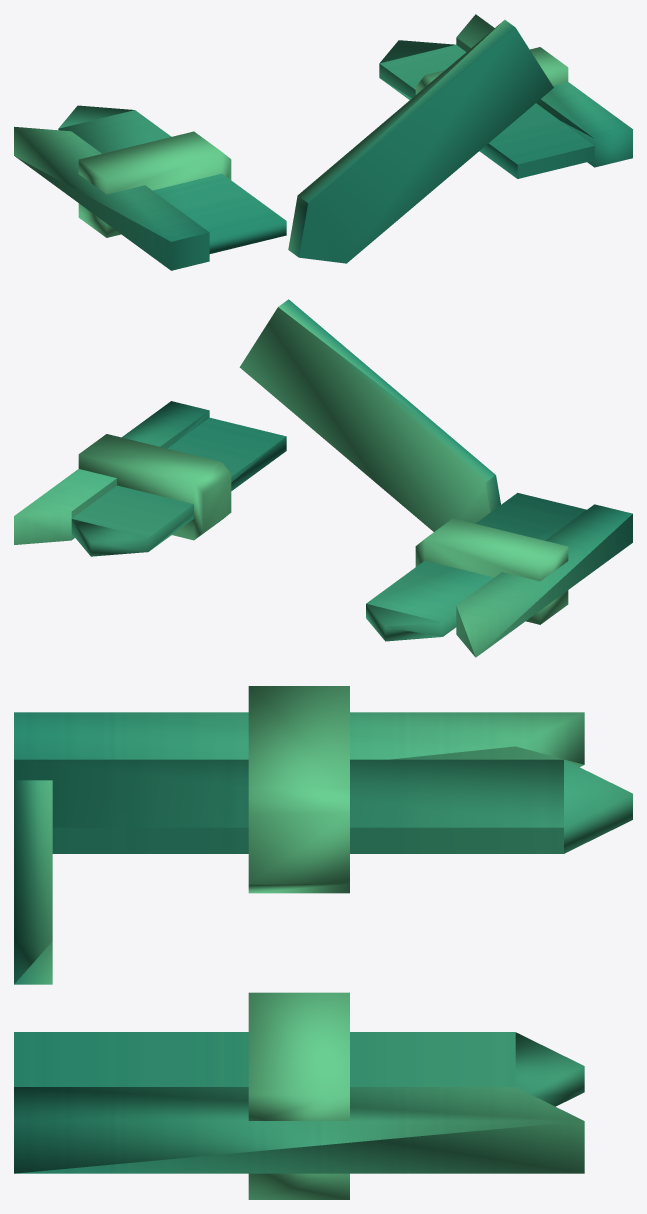
Rendered from fence-damaged.obj.
3 views of the same model, one above another, from view 1: azimuth 30°, elevation 25°; view 2: azimuth 150°, elevation 25°; view 3: azimuth 270°, elevation 25° (orthographic). The views are drawn at different scales.
Parts seen in each view (by area): view 1: fence-damaged; view 2: fence-damaged; view 3: fence-damaged.
Boxes of the visible parts, x1,y1,x2,y2 form: fence-damaged: (14,14,632,270); fence-damaged: (14,299,632,657); fence-damaged: (14,686,632,1199).
Size of the model in its own units: 1 by 0.4036 by 0.64.
